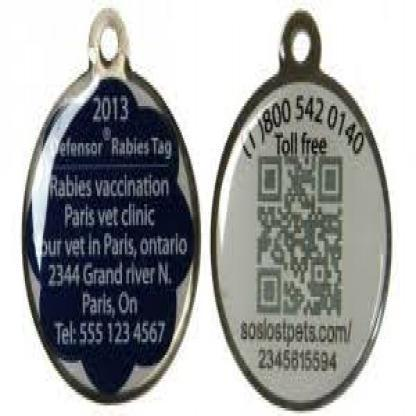qr_code: (256, 155, 343, 315)
